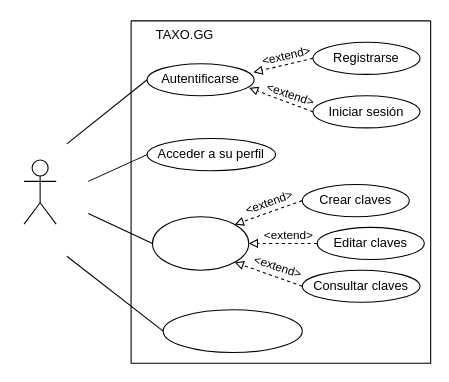
Image size: 449x382. Some labels were removed from this diagram. The shapes that lost their labels are listed below. From the top down, each one's box as (x1, y1, x2, y2) in pixels, then its label:
(23, 159, 56, 224): Usuario
(151, 216, 249, 270): Gestionar sus claves
(162, 309, 302, 353): Consultar taxones
